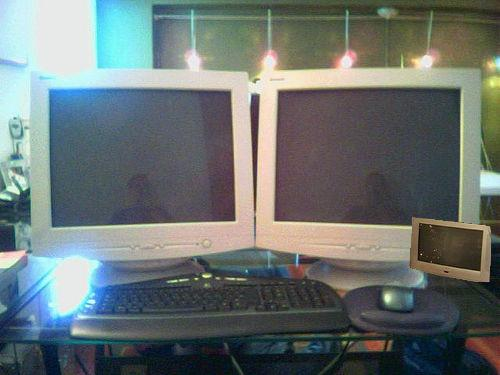tampered: (410, 218, 491, 282)
